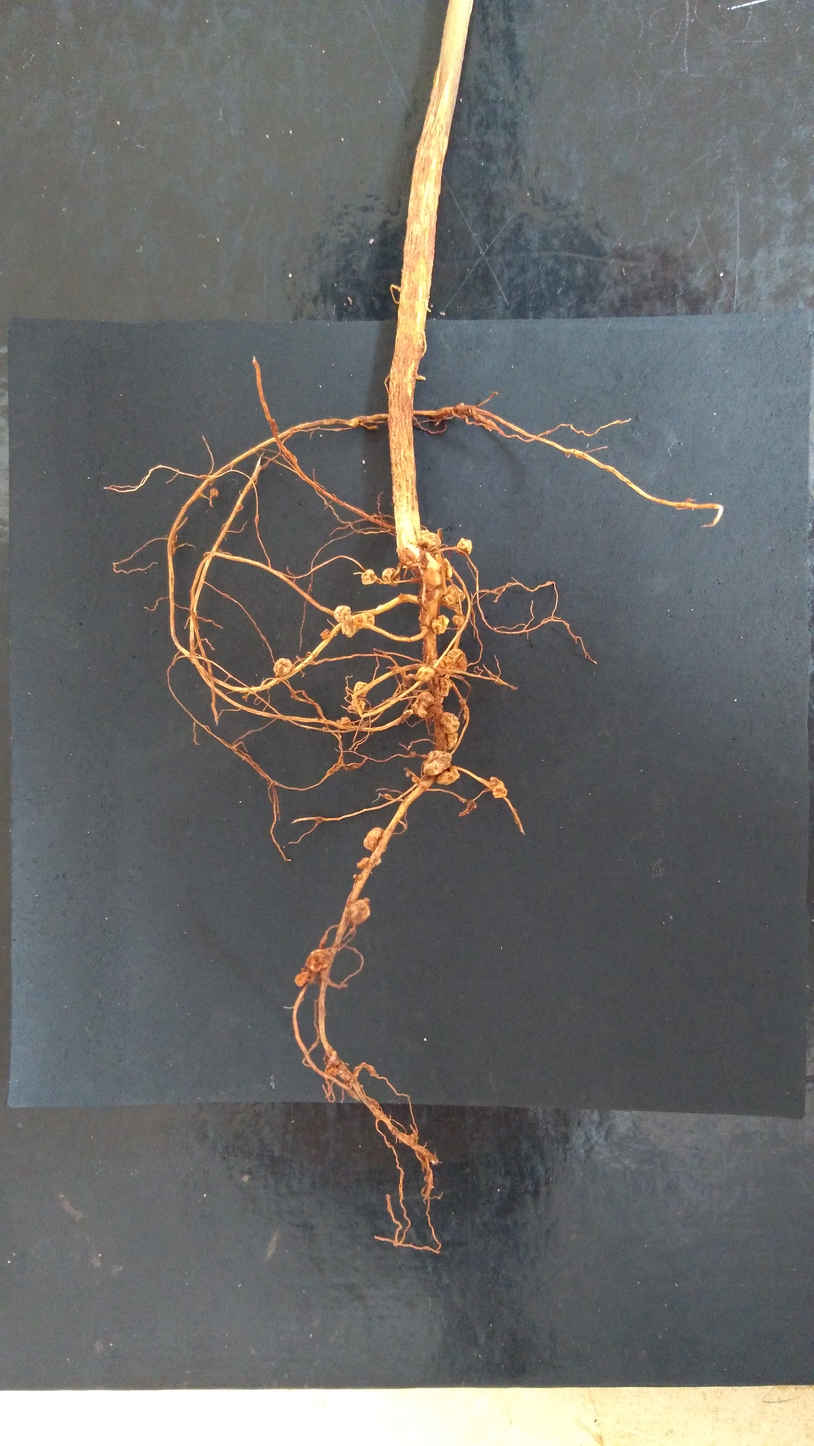nodule: (423, 551, 454, 586), (423, 749, 452, 776), (412, 691, 436, 719), (363, 826, 387, 853), (305, 948, 331, 972), (440, 584, 466, 607), (350, 897, 371, 925), (435, 764, 460, 785), (439, 711, 460, 735), (447, 648, 468, 672), (343, 1080, 367, 1101), (417, 528, 442, 548), (487, 776, 508, 798), (273, 657, 295, 677), (404, 673, 423, 696), (341, 615, 359, 637), (381, 567, 401, 586), (333, 605, 353, 623), (431, 615, 449, 635), (432, 659, 453, 676), (413, 666, 436, 681), (356, 856, 382, 869), (452, 403, 475, 417), (438, 677, 453, 698), (456, 538, 473, 556), (444, 730, 459, 750), (323, 1050, 340, 1067), (348, 697, 367, 712), (361, 569, 377, 585), (353, 681, 369, 697), (294, 970, 308, 987), (354, 613, 367, 629), (439, 655, 453, 669), (364, 612, 375, 629), (326, 1064, 341, 1076), (336, 716, 352, 727), (451, 615, 465, 626), (320, 628, 331, 640), (207, 474, 216, 486), (360, 720, 372, 728), (209, 488, 219, 497), (315, 815, 324, 824), (458, 697, 466, 705), (409, 750, 417, 758), (408, 577, 419, 582), (405, 769, 411, 778), (242, 695, 248, 702), (439, 696, 445, 703), (411, 776, 418, 782), (358, 873, 363, 879), (322, 726, 327, 730), (353, 873, 357, 878)
